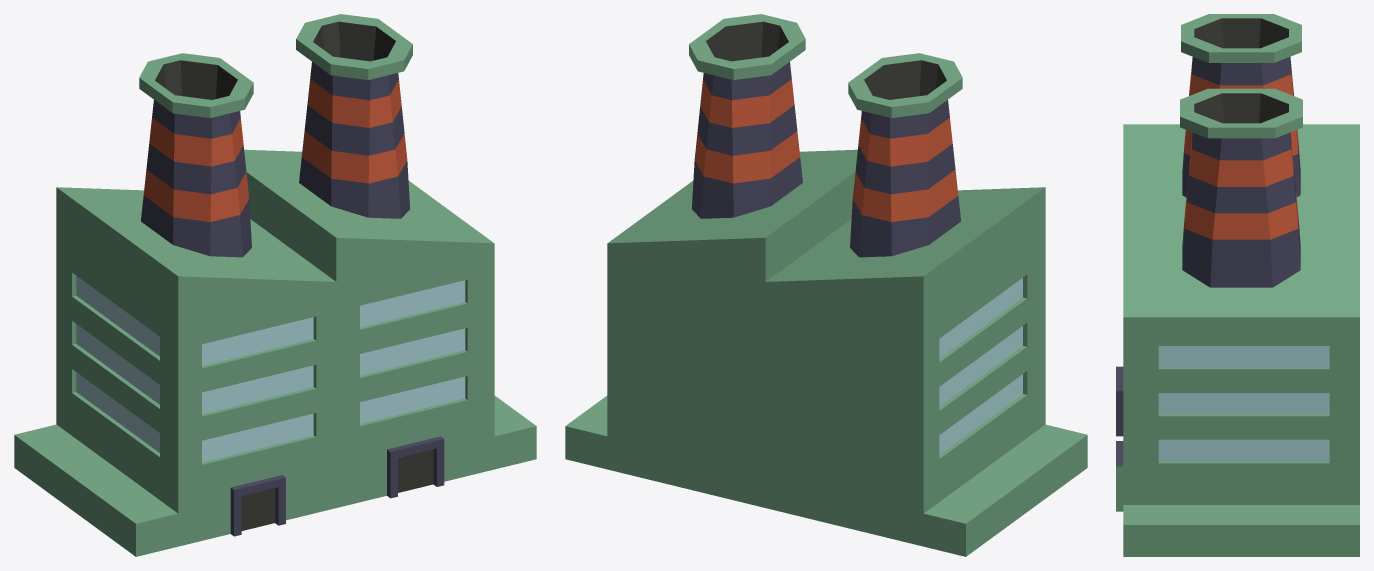
The model's file is Factory02.fbx.
3 views of the same model, side by side, from view 1: azimuth 30°, elevation 25°; view 2: azimuth 150°, elevation 25°; view 3: azimuth 270°, elevation 25° (orthographic). The views are drawn at different scales.
Visible parts, largest first — view 1: Factory02; view 2: Factory02; view 3: Factory02.
Boxes of the visible parts, x1,y1,x2,y2 form: Factory02: [14, 14, 536, 556]; Factory02: [565, 14, 1087, 556]; Factory02: [1116, 14, 1359, 556].
Bounding box in the file's own units: 380 × 365 × 206.
